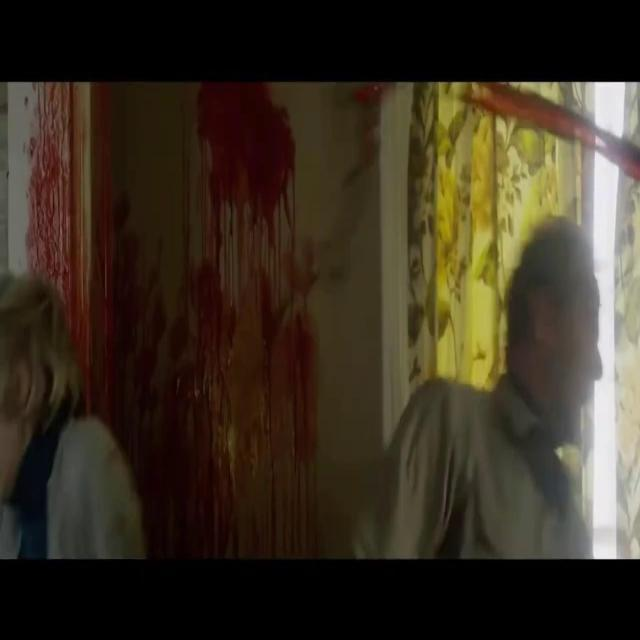flood: (194, 82, 314, 560), (27, 80, 118, 424), (462, 81, 640, 195)
